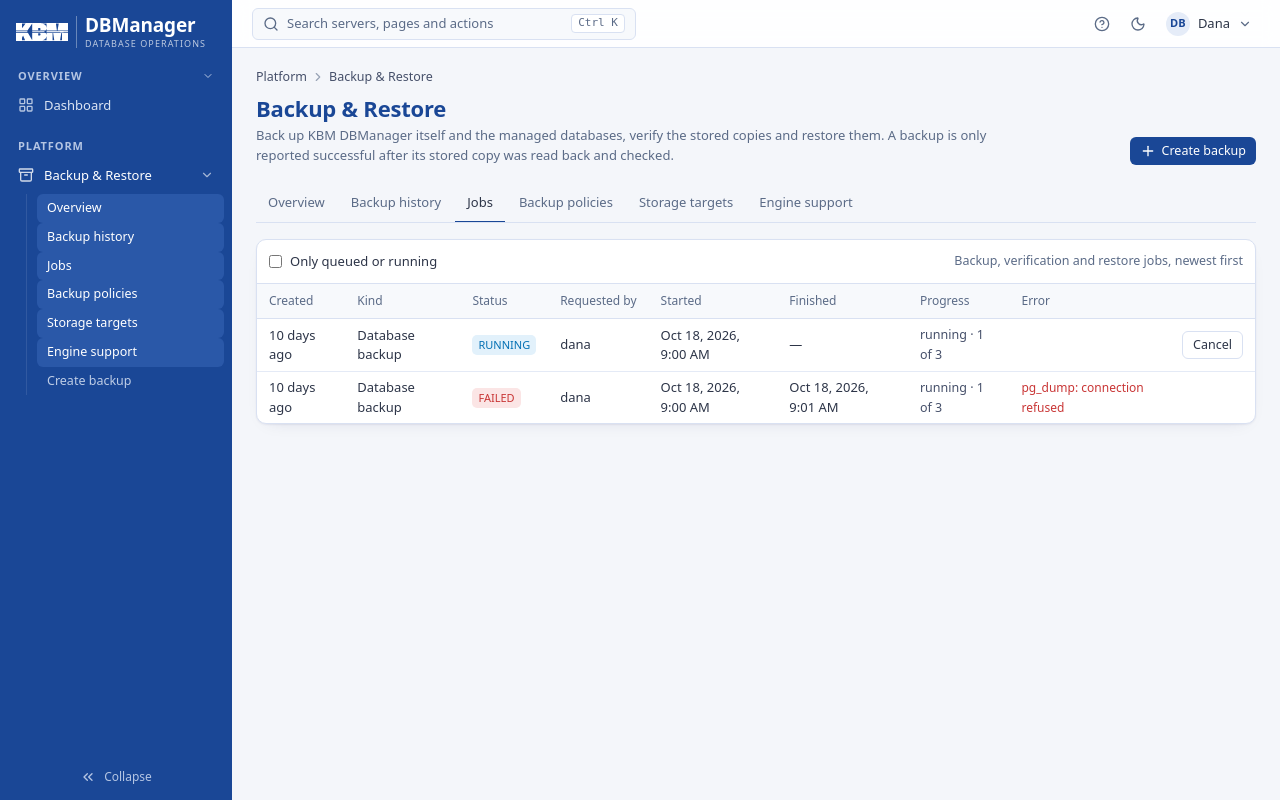
Test case: backup pin, jobs and engine support › lists jobs and cancels an active one
Check: the text "pg_dump: connection refused" is shown, box [1022,379,1144,416]
Check: the text "dana" is shown 2 times, box [548,319,649,371]; [548,371,649,423]
Click the button with aria-label "Cancel job aaaaaaaa" at (1213, 345), box [1182,331,1243,359]
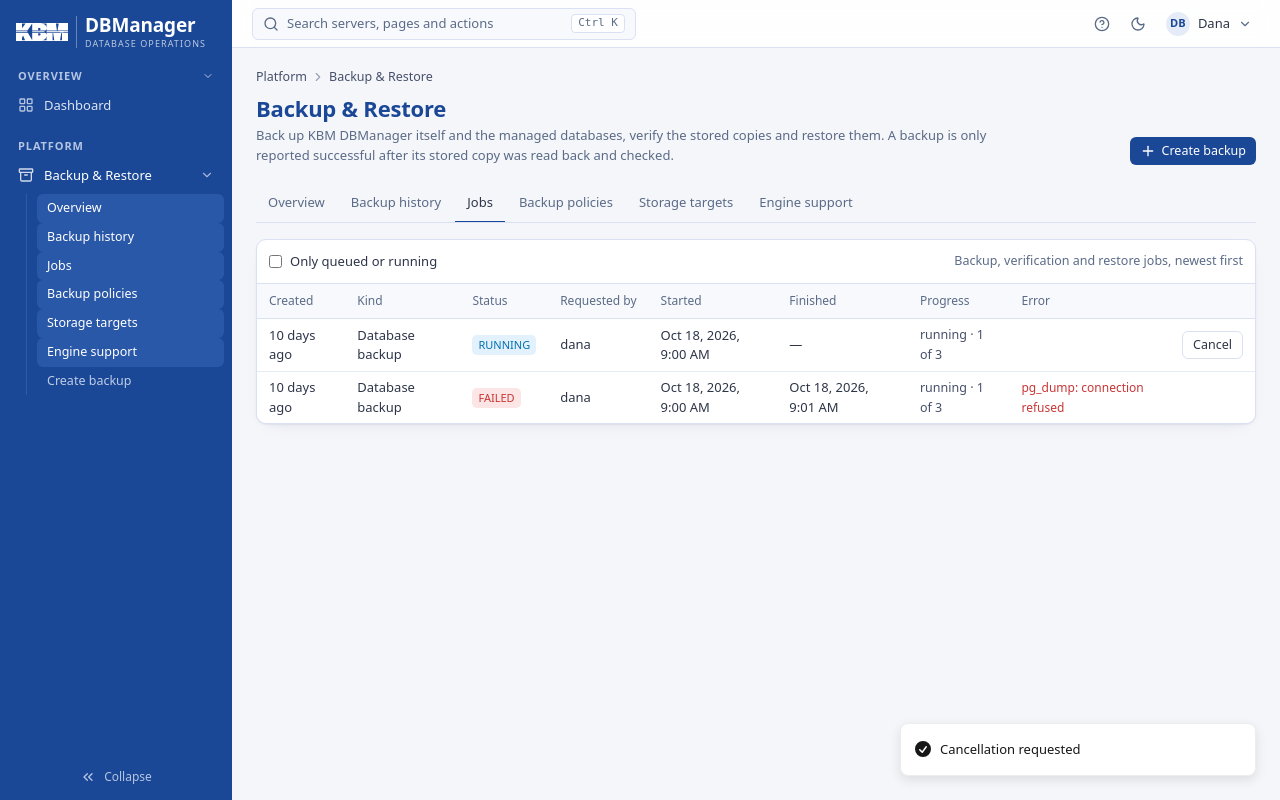
Check: the text "Cancellation requested" is shown, box [940,740,1080,759]
